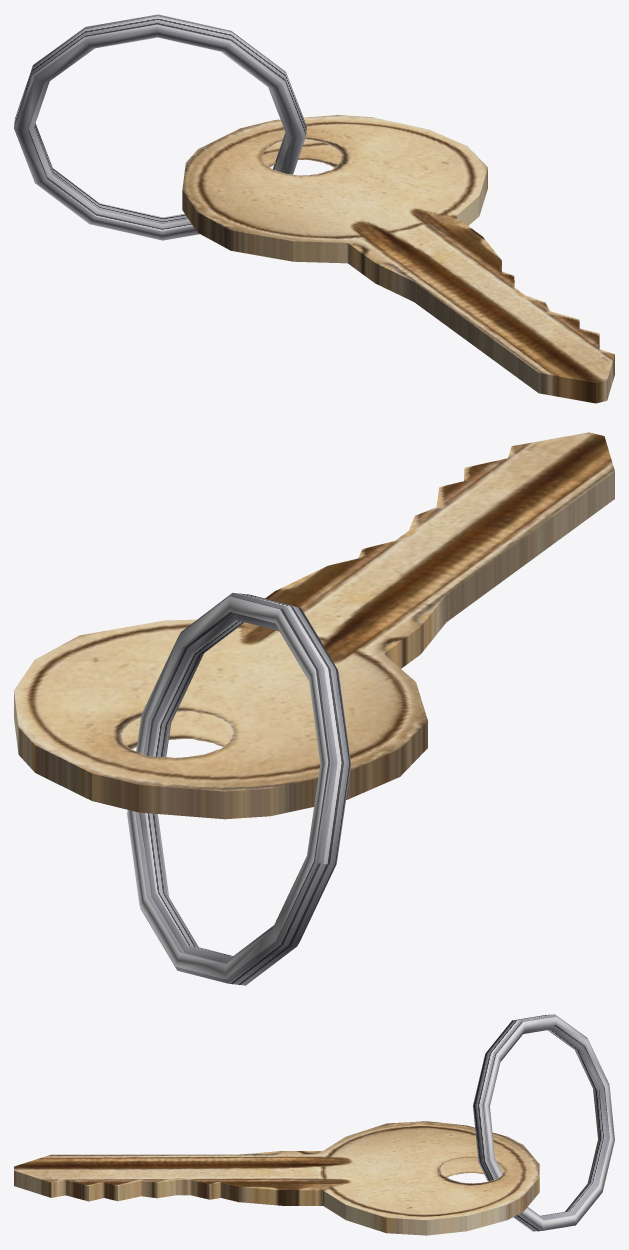
Rendered from key_circle.fbx.
3 renders of one model, top to bottom at view 1: azimuth 30°, elevation 25°; view 2: azimuth 150°, elevation 25°; view 3: azimuth 270°, elevation 25°, orthographic. The views are drawn at different scales.
Parts seen in each view (by area): view 1: key_circ; view 2: key_circ; view 3: key_circ.
Part boxes in pixels (left/top/right/bottom): key_circ: left=14, top=14, right=614, bottom=403; key_circ: left=14, top=432, right=614, bottom=985; key_circ: left=14, top=1014, right=614, bottom=1235.
Size of the model in its own units: 11.45 by 8.32 by 23.46.
Materials: 1 (1 with a texture image).
